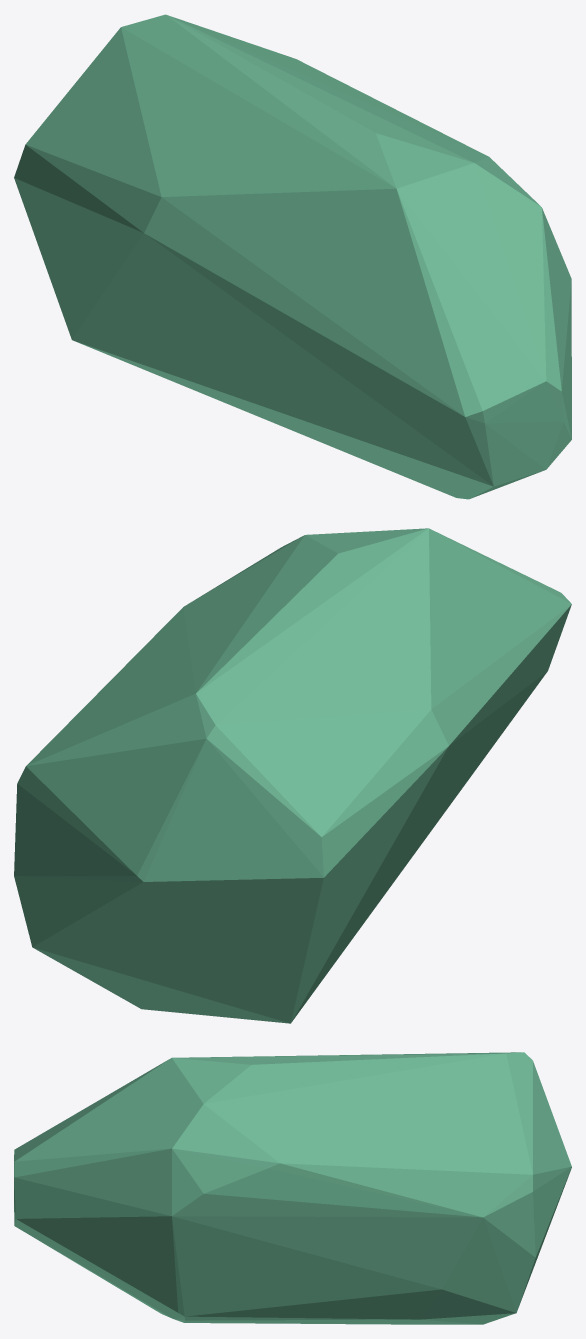
Rendered from food_beverage_ginBottle_a01.glb.
3 views of the same model, one above another, from view 1: azimuth 30°, elevation 25°; view 2: azimuth 150°, elevation 25°; view 3: azimuth 270°, elevation 25° (orthographic). The views are drawn at different scales.
Parts seen in each view (by area): view 1: geometry_0; view 2: geometry_0; view 3: geometry_0.
Part boxes in pixels (bbox=[...]): geometry_0: bbox=[14, 14, 571, 499]; geometry_0: bbox=[14, 528, 571, 1023]; geometry_0: bbox=[14, 1052, 571, 1324].
Size of the model in its own units: 0.2311 by 0.2347 by 0.4795.
